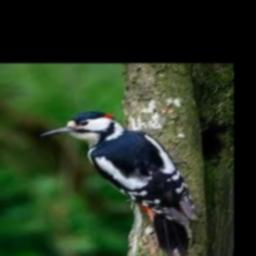Woodpecker: (41, 111, 198, 256)
